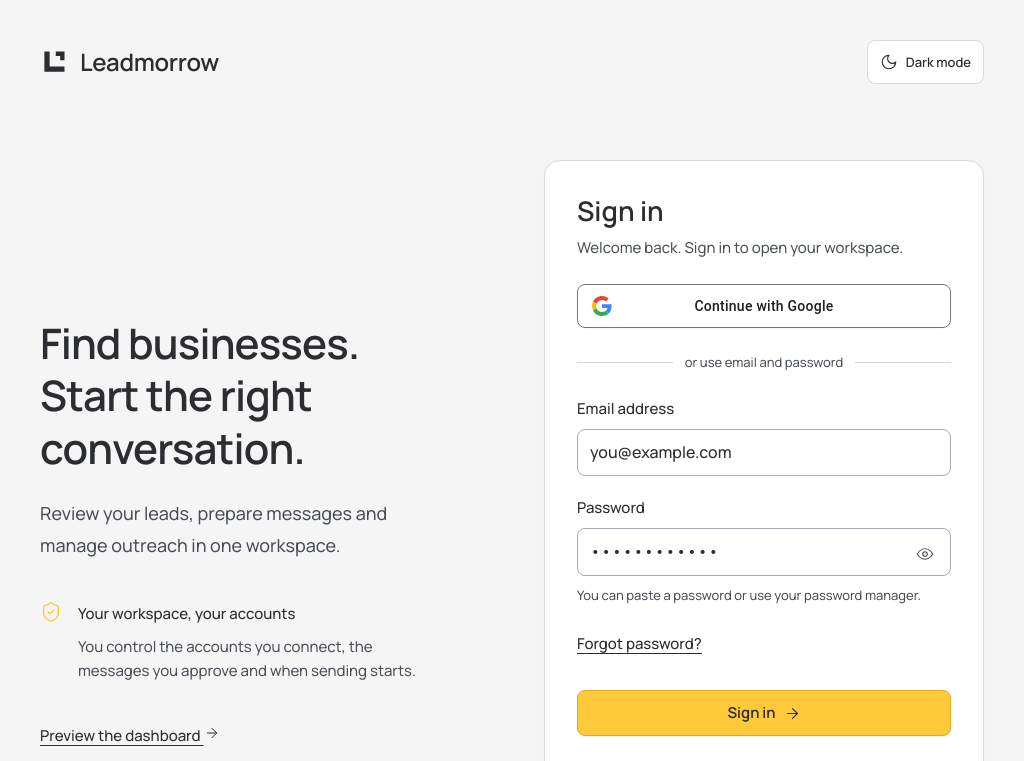
Test: design review sign-in cannot call Firebase or accept real credentials
Step 1. Click the button with class "ws-google" → click(764, 306), box [577,284,951,328]
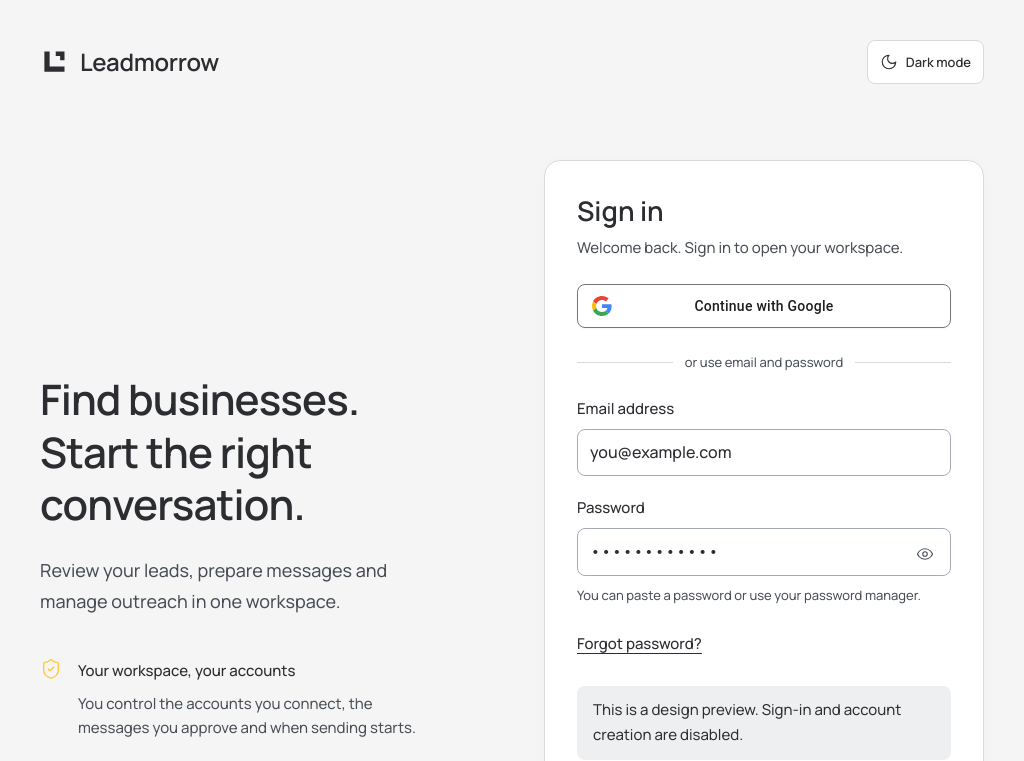
Check: the text "Sign-in and account creation are disabled." is shown, box [593,699,901,745]
